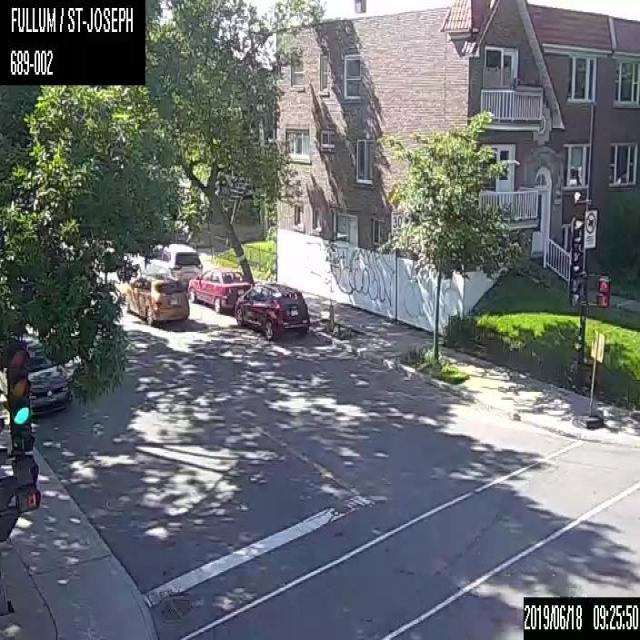construction: (571, 329, 605, 429)
vehicle: (0, 334, 74, 418), (235, 280, 310, 341), (117, 272, 188, 324), (132, 242, 202, 286), (188, 266, 254, 312)
